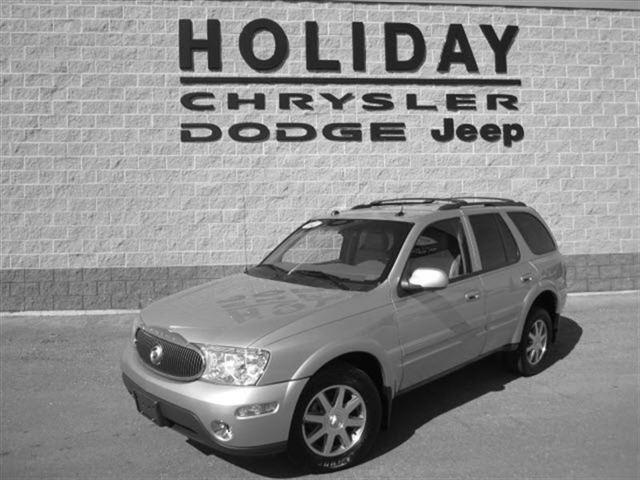car: (121, 194, 570, 475)
